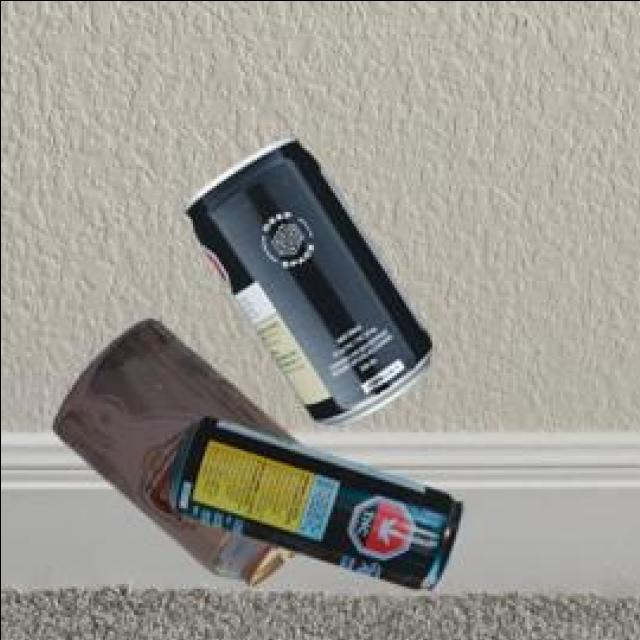logam: (179, 132, 428, 418), (49, 316, 295, 584), (165, 411, 461, 587)
